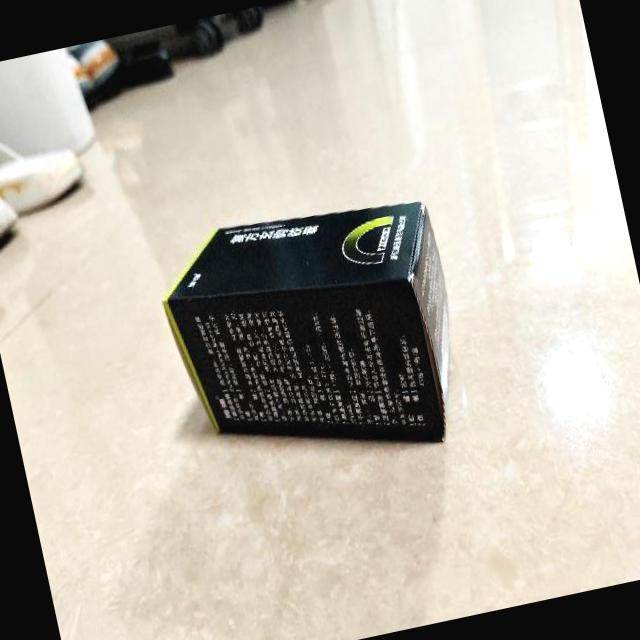box: (149, 181, 478, 494)
